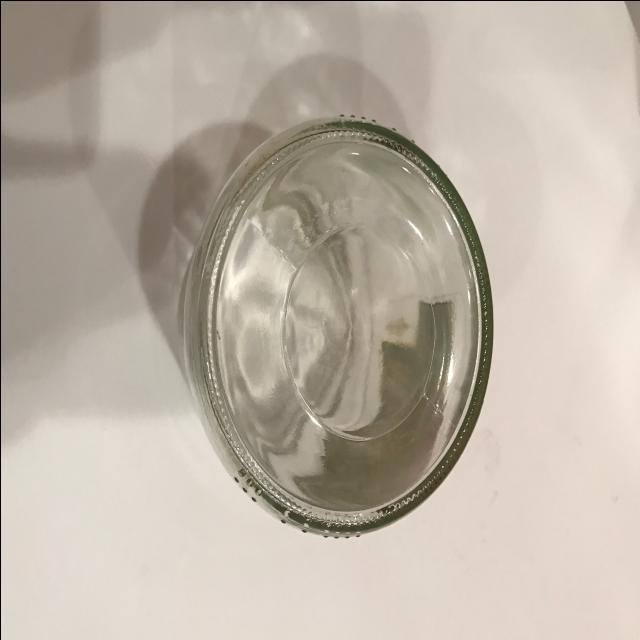glass: (144, 76, 499, 548)
